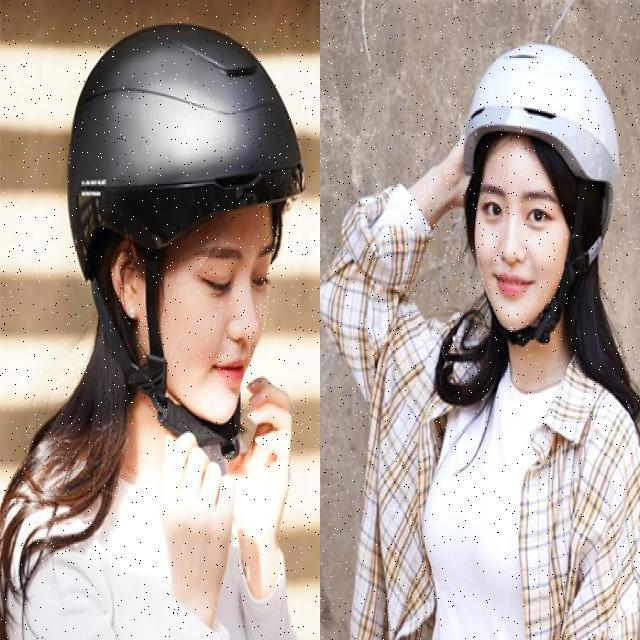helmet: (62, 20, 304, 446), (462, 42, 624, 346)
